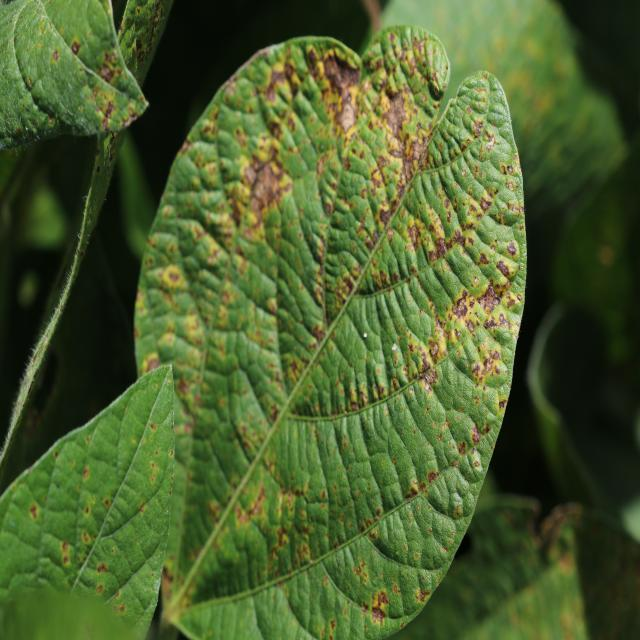Bacterial_Blight: (443, 281, 509, 366), (318, 46, 368, 136), (536, 501, 587, 558), (248, 158, 288, 219), (381, 90, 412, 159), (142, 2, 165, 62), (265, 64, 288, 100), (333, 50, 360, 79), (477, 284, 501, 315), (407, 133, 427, 165), (102, 135, 118, 174), (451, 296, 470, 320), (404, 481, 426, 501), (97, 61, 115, 83), (120, 107, 138, 127), (407, 224, 420, 250), (434, 235, 448, 259), (387, 85, 403, 105), (244, 164, 258, 186), (371, 606, 386, 626), (453, 228, 467, 248), (323, 192, 334, 217), (379, 205, 391, 227), (415, 587, 430, 603), (424, 368, 437, 386), (470, 425, 481, 446), (471, 120, 484, 137), (479, 196, 492, 213), (147, 358, 160, 374), (484, 136, 496, 153), (104, 100, 114, 118), (427, 469, 439, 484), (431, 342, 440, 359), (108, 131, 116, 148), (71, 41, 80, 55), (102, 117, 111, 131), (52, 49, 59, 61), (96, 165, 101, 173)
Soybean: (135, 26, 526, 640)
